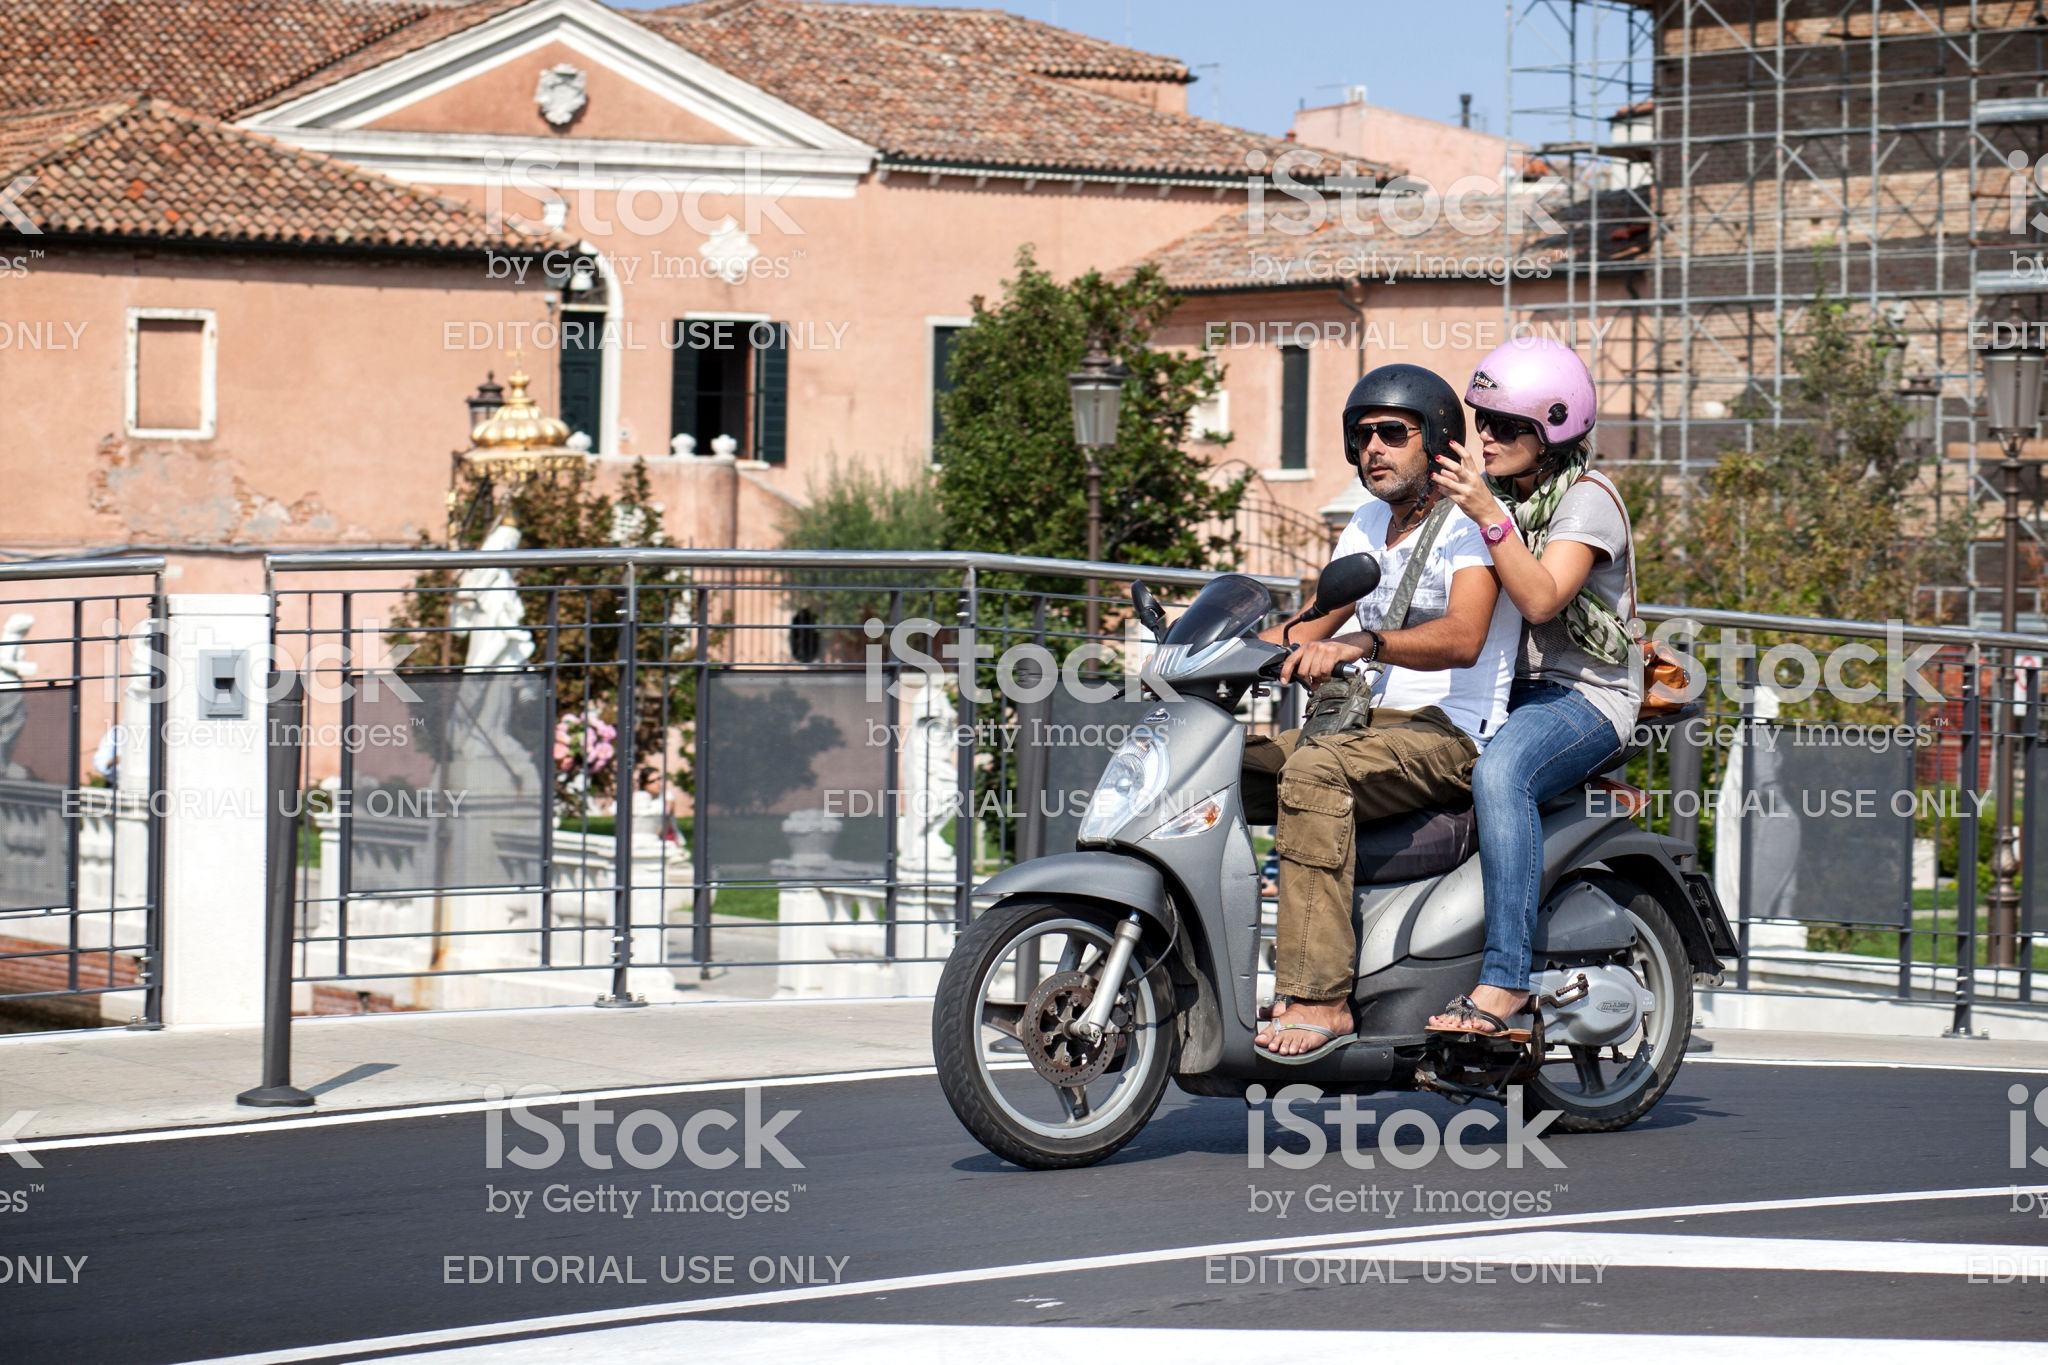helmet: (1475, 328, 1594, 448), (1340, 367, 1447, 442)
